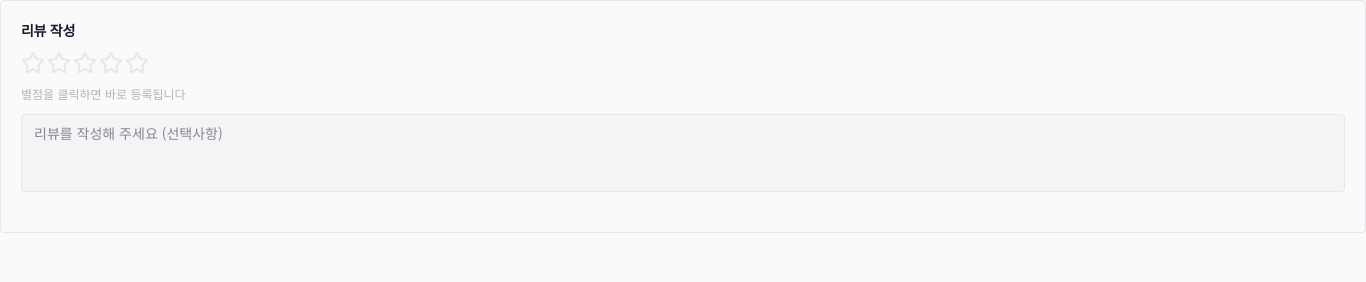
it: ReviewForm › 텍스트 입력 시 '리뷰 등록' 버튼이 나타난다
expect the text "리뷰 등록" is not shown: met
In the text box with placeholder "리뷰를 작성해 주세요 (선택사항)": (683, 153) [21,114,1345,192], type "좋은 책!"
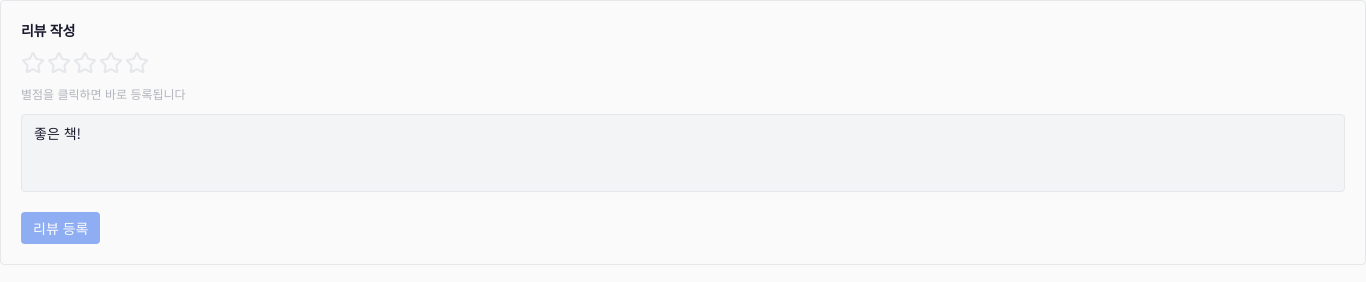
expect the button "리뷰 등록" is shown: met, box [21,212,100,244]
